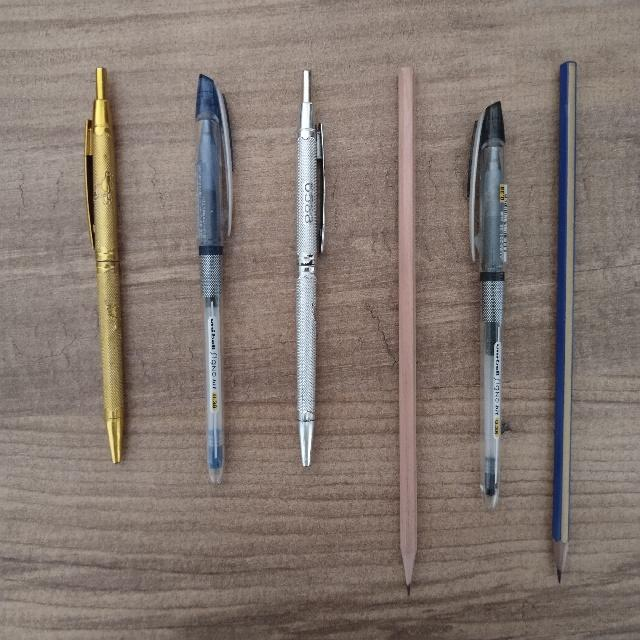pen: (469, 102, 506, 508), (195, 75, 231, 483)
pencil: (552, 61, 576, 581), (398, 67, 416, 592)
signature pen: (85, 68, 123, 462), (296, 70, 324, 466)
